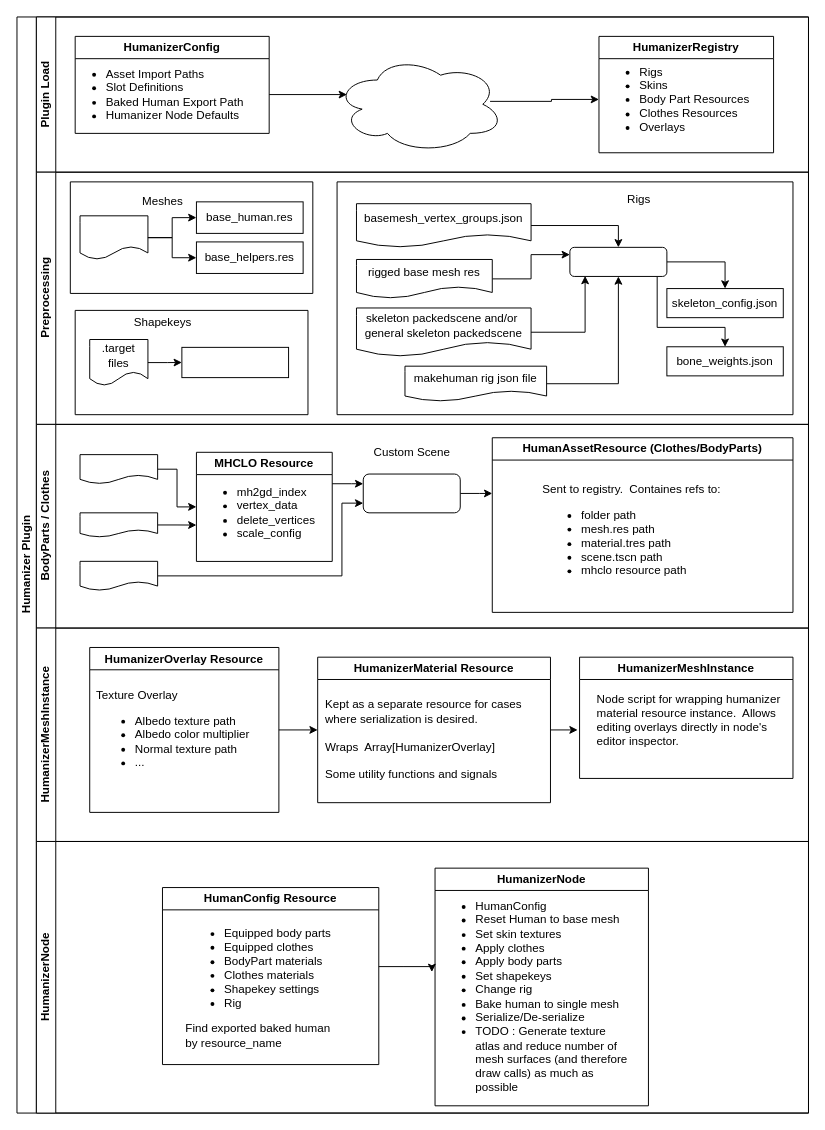
Image size: 825x1130. Some labels were removed from this diagram. The centre of each missing label's shape, as x and y in pixels:
".mhclo file" belongs at [118,469].
".obj file" belongs at [118,524].
"AssetImporter" belongs at [411,493].
"base.obj" belongs at [113,237].
"Scan & Load Assets" belongs at [419,104].
"shapekey_data.dat" belongs at [235,362].
"SkeletonConfig" belongs at [618,261].
"textures" belongs at [118,575].
